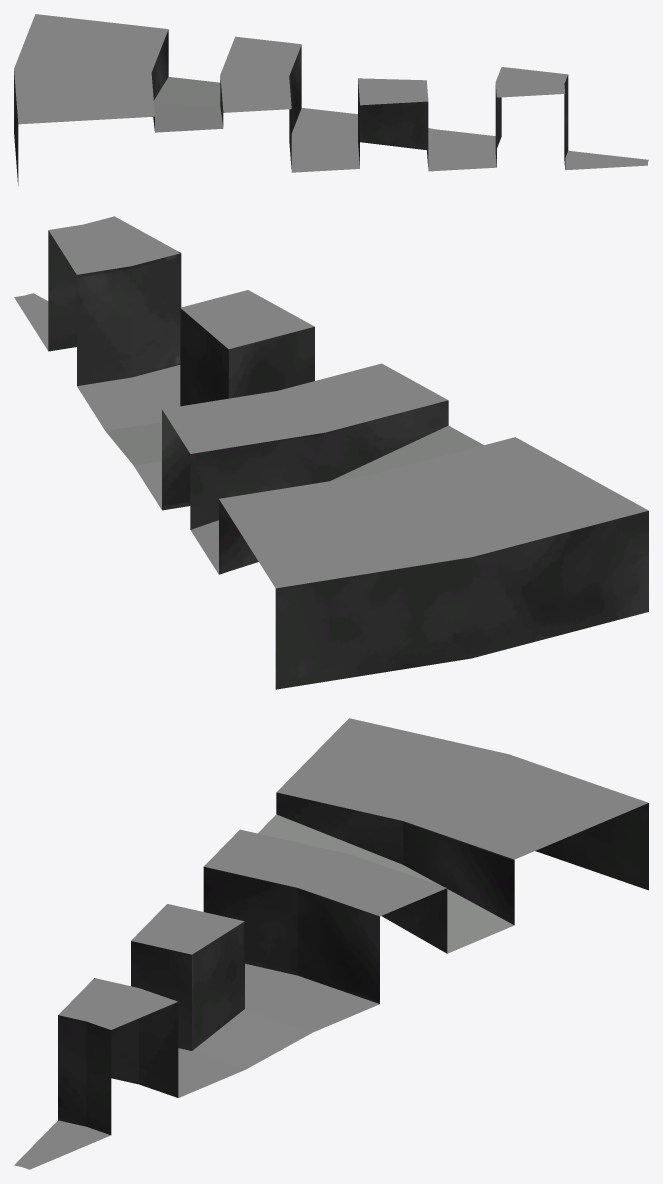
File: bottom_14.obj
3 views of the same model, one above another, from view 1: azimuth 30°, elevation 25°; view 2: azimuth 150°, elevation 25°; view 3: azimuth 270°, elevation 25° (orthographic). The views are drawn at different scales.
Visible parts, largest first — view 1: Cylinder.004; view 2: Cylinder.004; view 3: Cylinder.004.
Part boxes in pixels (x1,y1,x2,y2): Cylinder.004: [14, 14, 648, 185]; Cylinder.004: [14, 216, 648, 689]; Cylinder.004: [14, 718, 648, 1169].
Size of the model in its own units: 33.89 by 4.8 by 26.25.
